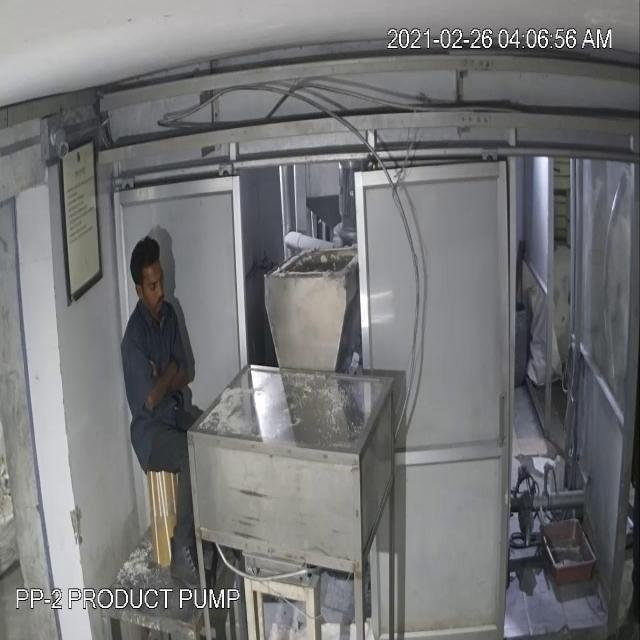no-helmet: (125, 237, 175, 286)
